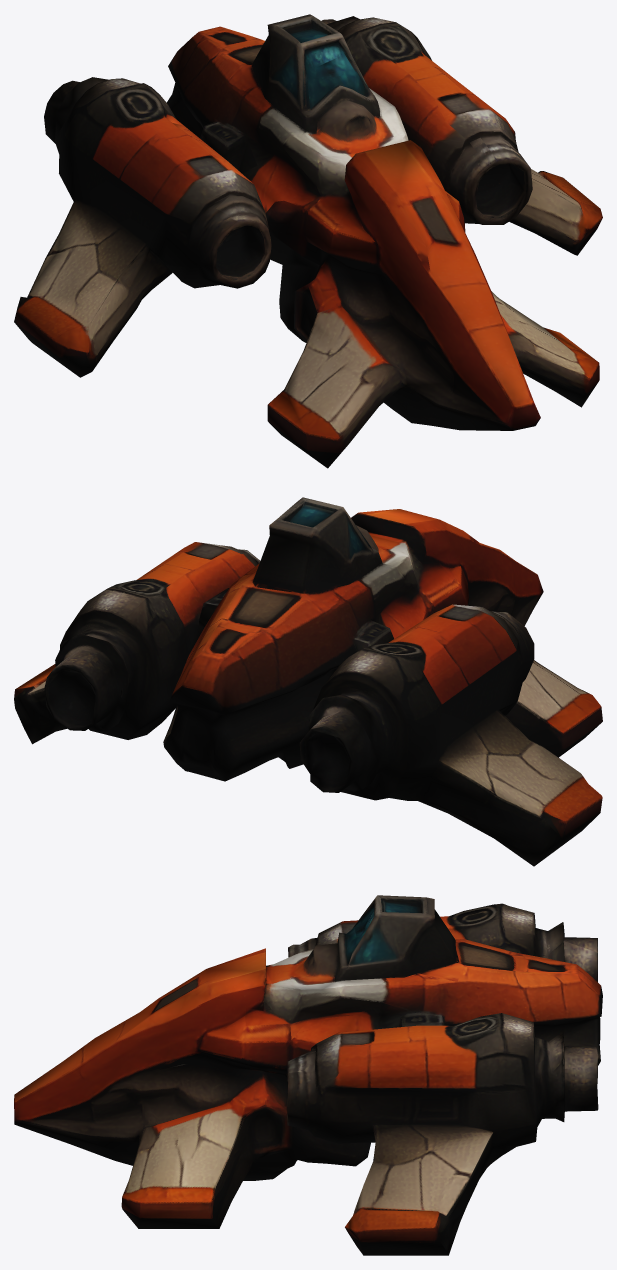
The model's file is PlayerShip.fbx.
The picture shows the model from 3 angles, top to bottom: view 1: azimuth 30°, elevation 25°; view 2: azimuth 150°, elevation 25°; view 3: azimuth 270°, elevation 25°; orthographic projection. The views are drawn at different scales.
Visible parts, largest first — view 1: node_b2ae2538_f617_4e96_8f0d_3a6aed4774e7_mesh0; view 2: node_b2ae2538_f617_4e96_8f0d_3a6aed4774e7_mesh0; view 3: node_b2ae2538_f617_4e96_8f0d_3a6aed4774e7_mesh0.
Boxes of the visible parts, left/top/right/bottom form: node_b2ae2538_f617_4e96_8f0d_3a6aed4774e7_mesh0: left=14, top=14, right=602, bottom=468; node_b2ae2538_f617_4e96_8f0d_3a6aed4774e7_mesh0: left=14, top=497, right=602, bottom=866; node_b2ae2538_f617_4e96_8f0d_3a6aed4774e7_mesh0: left=14, top=895, right=602, bottom=1255.
Size of the model in its own units: 95.2 by 50.19 by 99.31.
